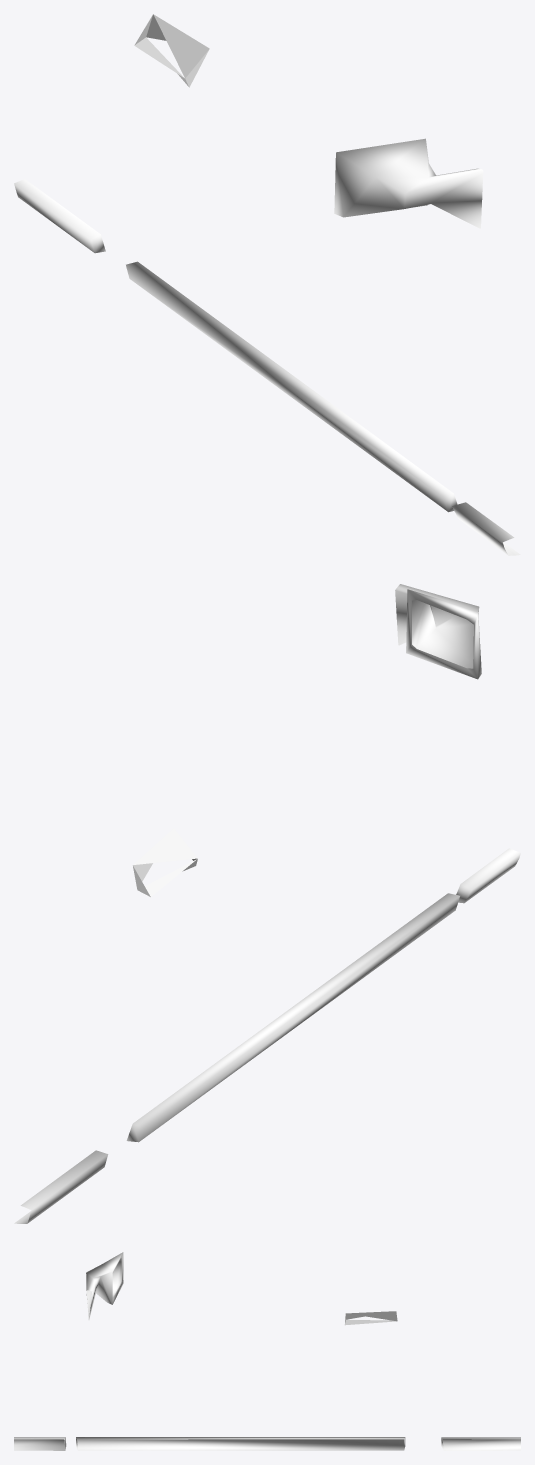
3 renders of one model, top to bottom at view 1: azimuth 30°, elevation 25°; view 2: azimuth 150°, elevation 25°; view 3: azimuth 270°, elevation 25°, orthographic. The views are drawn at different scales.
Bounding box in the file's own units: 0.1559 × 0.4565 × 1.17.
1 material, 1 textured.
